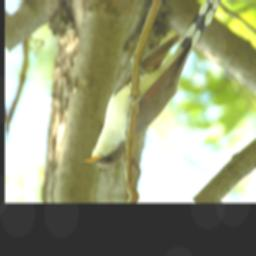Cuckoo: (81, 0, 219, 172)
